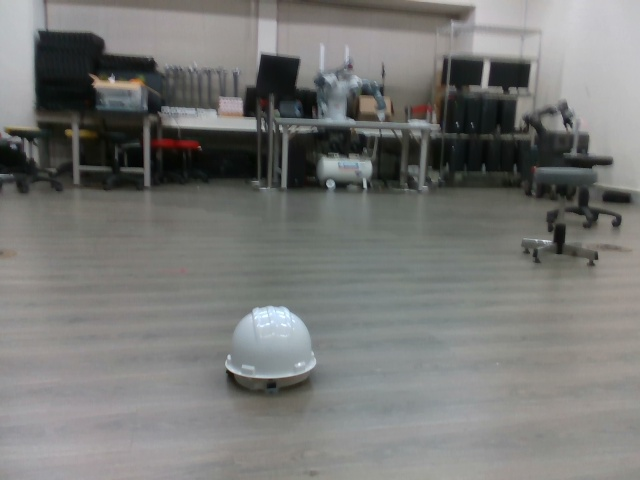helmet: (225, 304, 319, 393)
